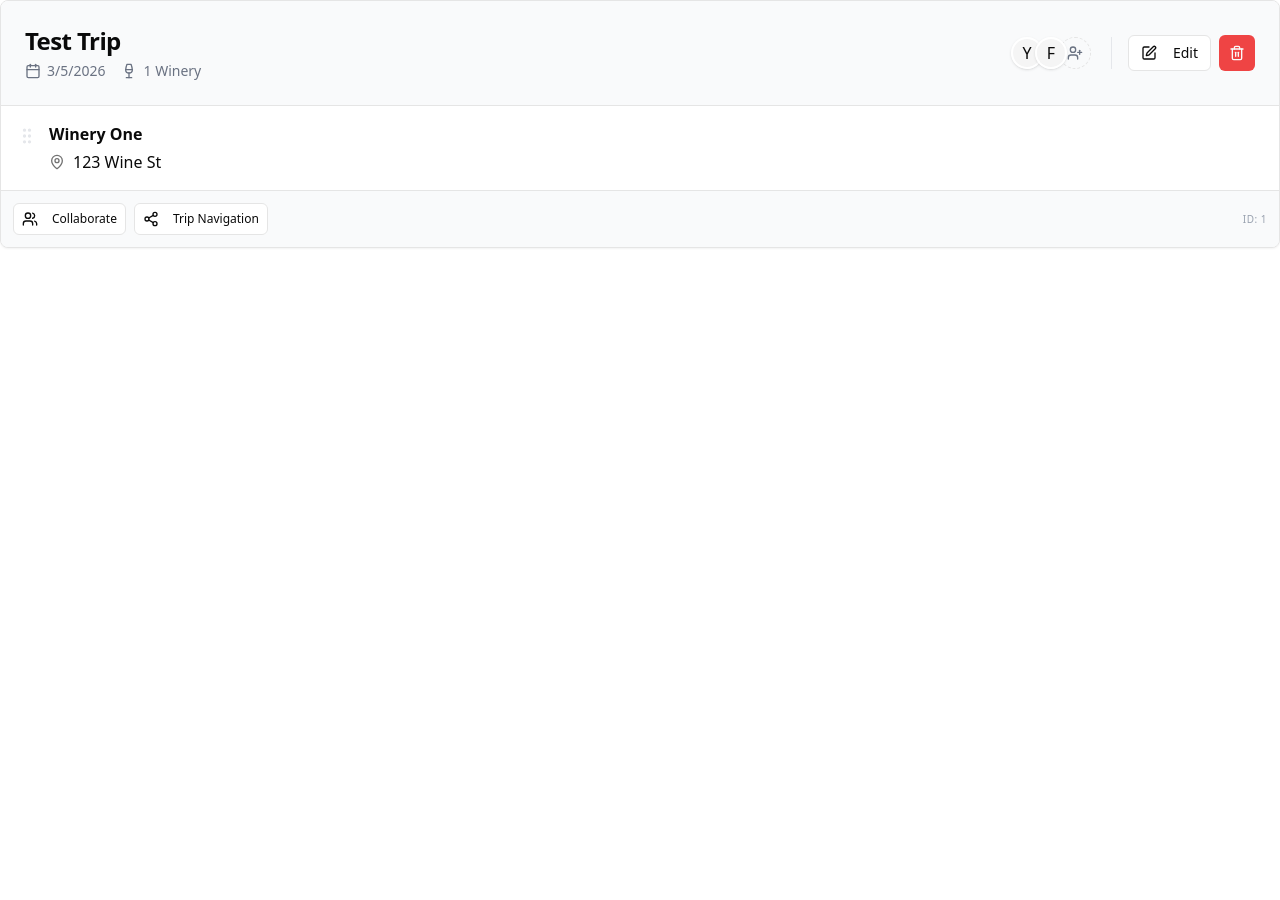
Test: TripCard › renders search results from props
What coordinates should you click on to do the following:
click the button with aria-label "Edit Trip"
I would click on:
 (1169, 53)
Its box is [1128, 35, 1211, 71].
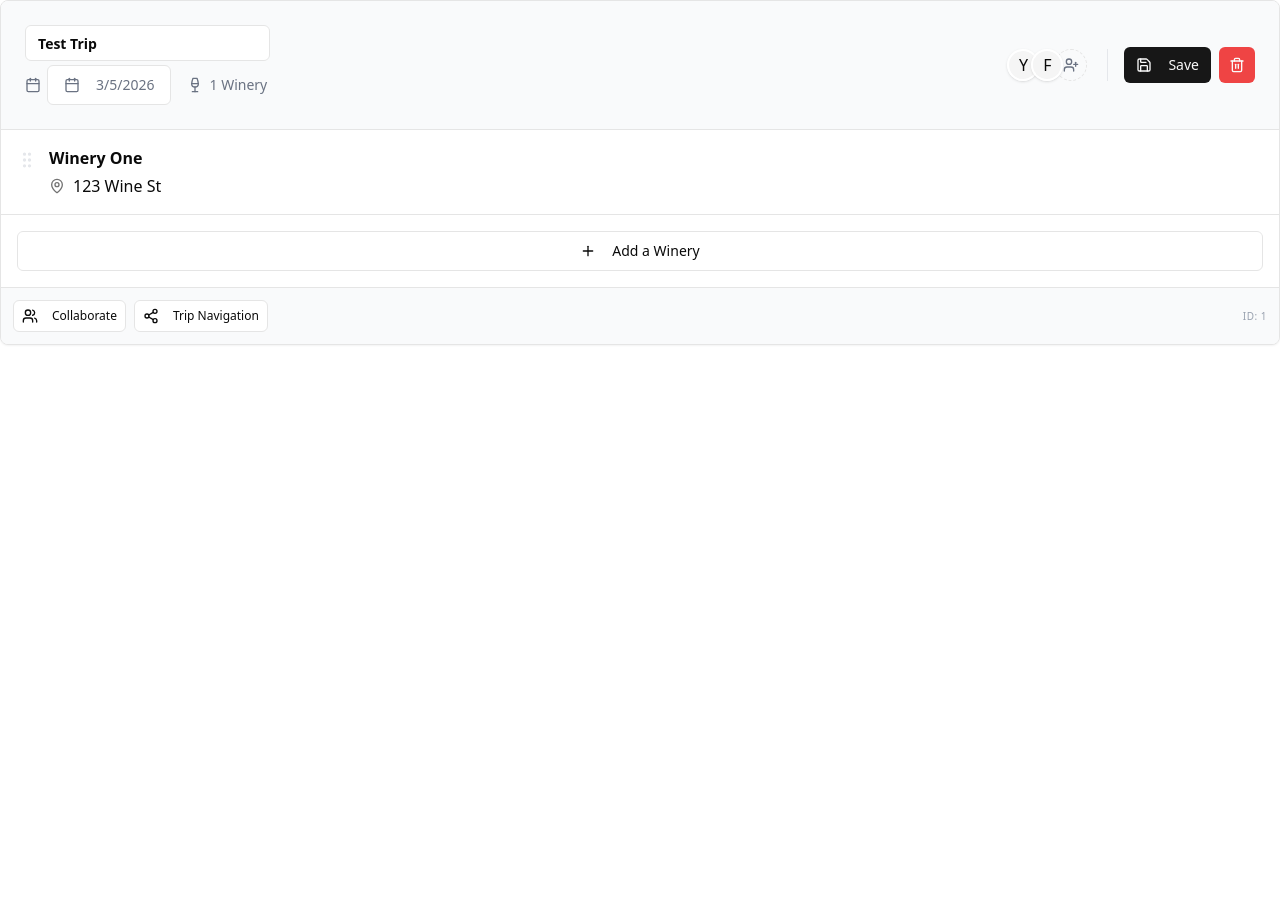
What coordinates should you click on to do the following:
click the button "Add a Winery"
I would click on:
 (640, 251)
Its box is [17, 231, 1263, 271].
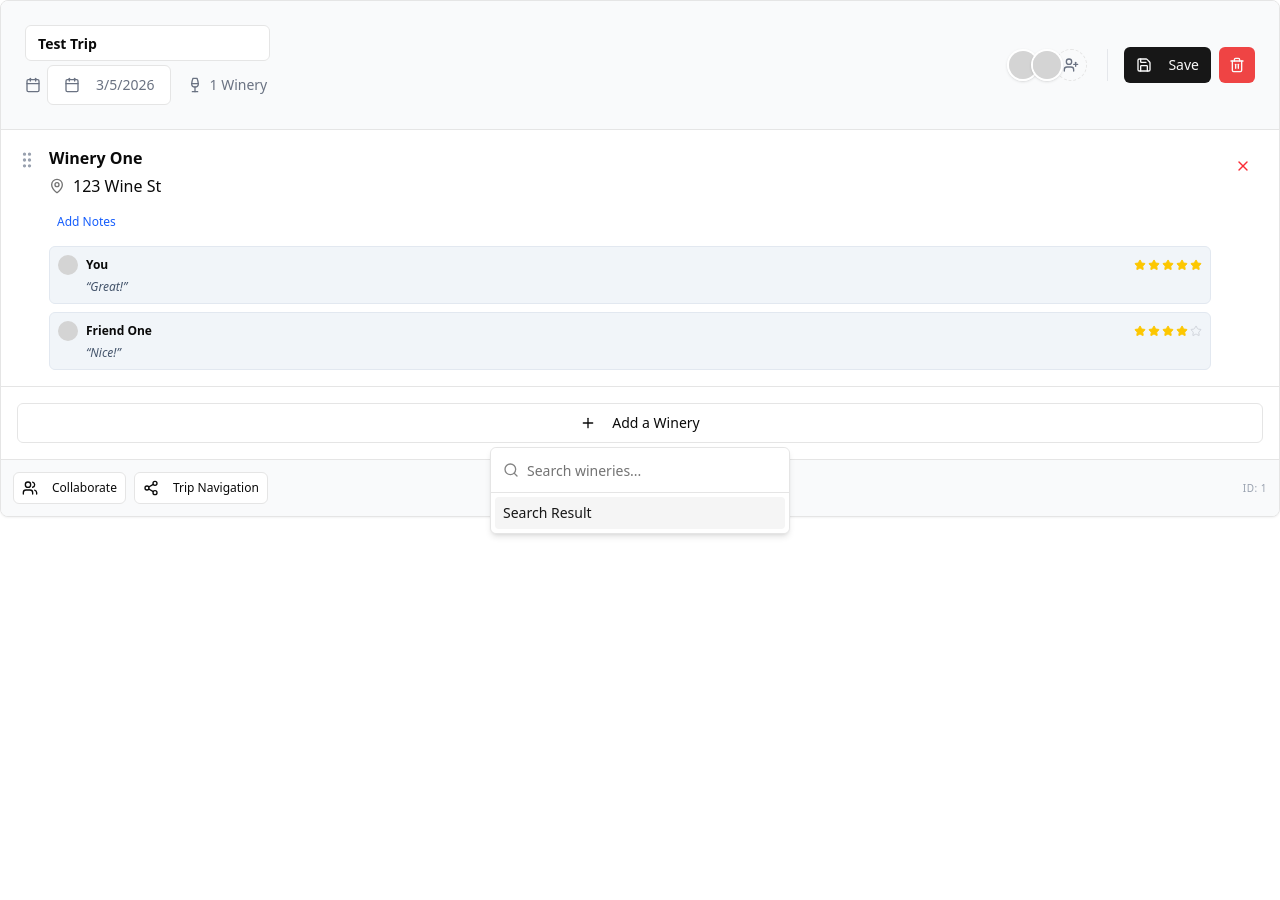
Check: the option "Search Result" is shown, box [495, 497, 785, 529]
